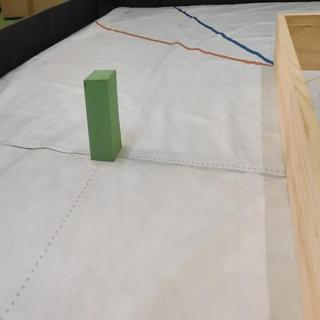greenbox: (83, 70, 120, 161)
